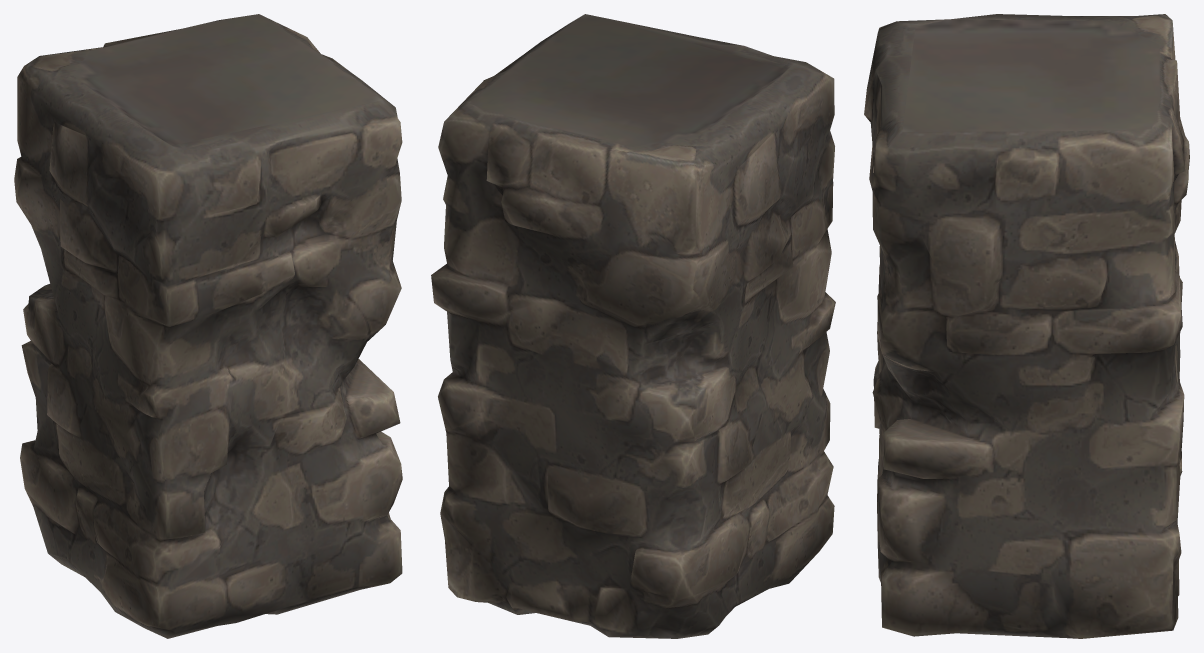
Rendered from Pillar_A_Dark.fbx.
3 renders of one model, left to right at view 1: azimuth 30°, elevation 25°; view 2: azimuth 150°, elevation 25°; view 3: azimuth 270°, elevation 25°, orthographic. The views are drawn at different scales.
Visible parts, largest first — view 1: Dn_HL_UND_Pillars_A_01.001; view 2: Dn_HL_UND_Pillars_A_01.001; view 3: Dn_HL_UND_Pillars_A_01.001.
Part boxes in pixels (x1,y1,x2,y2): Dn_HL_UND_Pillars_A_01.001: [14, 14, 402, 638]; Dn_HL_UND_Pillars_A_01.001: [431, 14, 835, 638]; Dn_HL_UND_Pillars_A_01.001: [864, 14, 1189, 638].
Bounding box in the file's own units: 3564 × 6078 × 3517.
